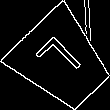L_SE: (34, 33, 91, 91)
